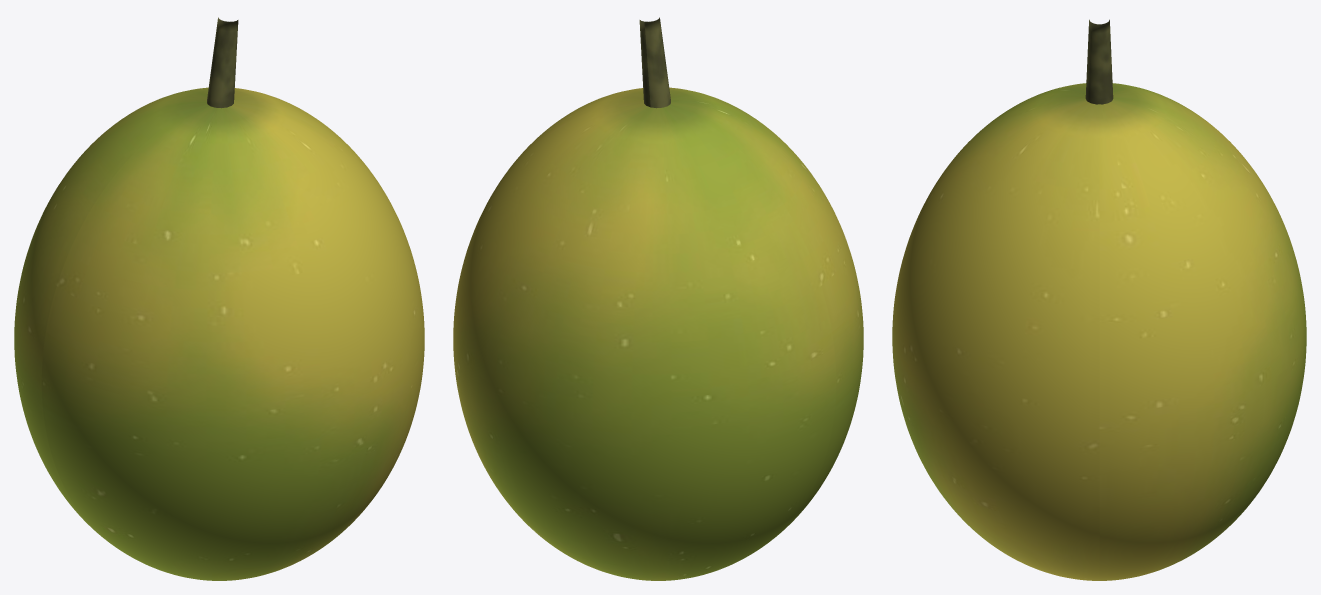
Rendered from evi.glb.
3 views of the same model, side by side, from view 1: azimuth 30°, elevation 25°; view 2: azimuth 150°, elevation 25°; view 3: azimuth 270°, elevation 25° (orthographic).
Parts seen in each view (by area): view 1: moitie_A_peau, entier_peau, moitie_B_peau, entier_extra0; view 2: moitie_B_peau, entier_peau, moitie_A_peau, entier_extra0; view 3: entier_peau, moitie_A_peau, moitie_B_peau, entier_extra0.
Part boxes in pixels (x1=…): moitie_A_peau: x1=41, y1=97, x2=424, y2=580; entier_peau: x1=14, y1=87, x2=424, y2=580; moitie_B_peau: x1=14, y1=88, x2=311, y2=536; entier_extra0: x1=207, y1=17, x2=238, y2=108; moitie_B_peau: x1=453, y1=97, x2=836, y2=580; entier_peau: x1=453, y1=87, x2=863, y2=580; moitie_A_peau: x1=566, y1=88, x2=863, y2=536; entier_extra0: x1=639, y1=17, x2=670, y2=108; entier_peau: x1=892, y1=83, x2=1306, y2=580; moitie_A_peau: x1=892, y1=83, x2=1099, y2=580; moitie_B_peau: x1=1099, y1=83, x2=1306, y2=580; entier_extra0: x1=1085, y1=19, x2=1113, y2=104.
Size of the model in its own units: 0.064 by 0.0941 by 0.064.
Materials: 3 (3 with a texture image).
